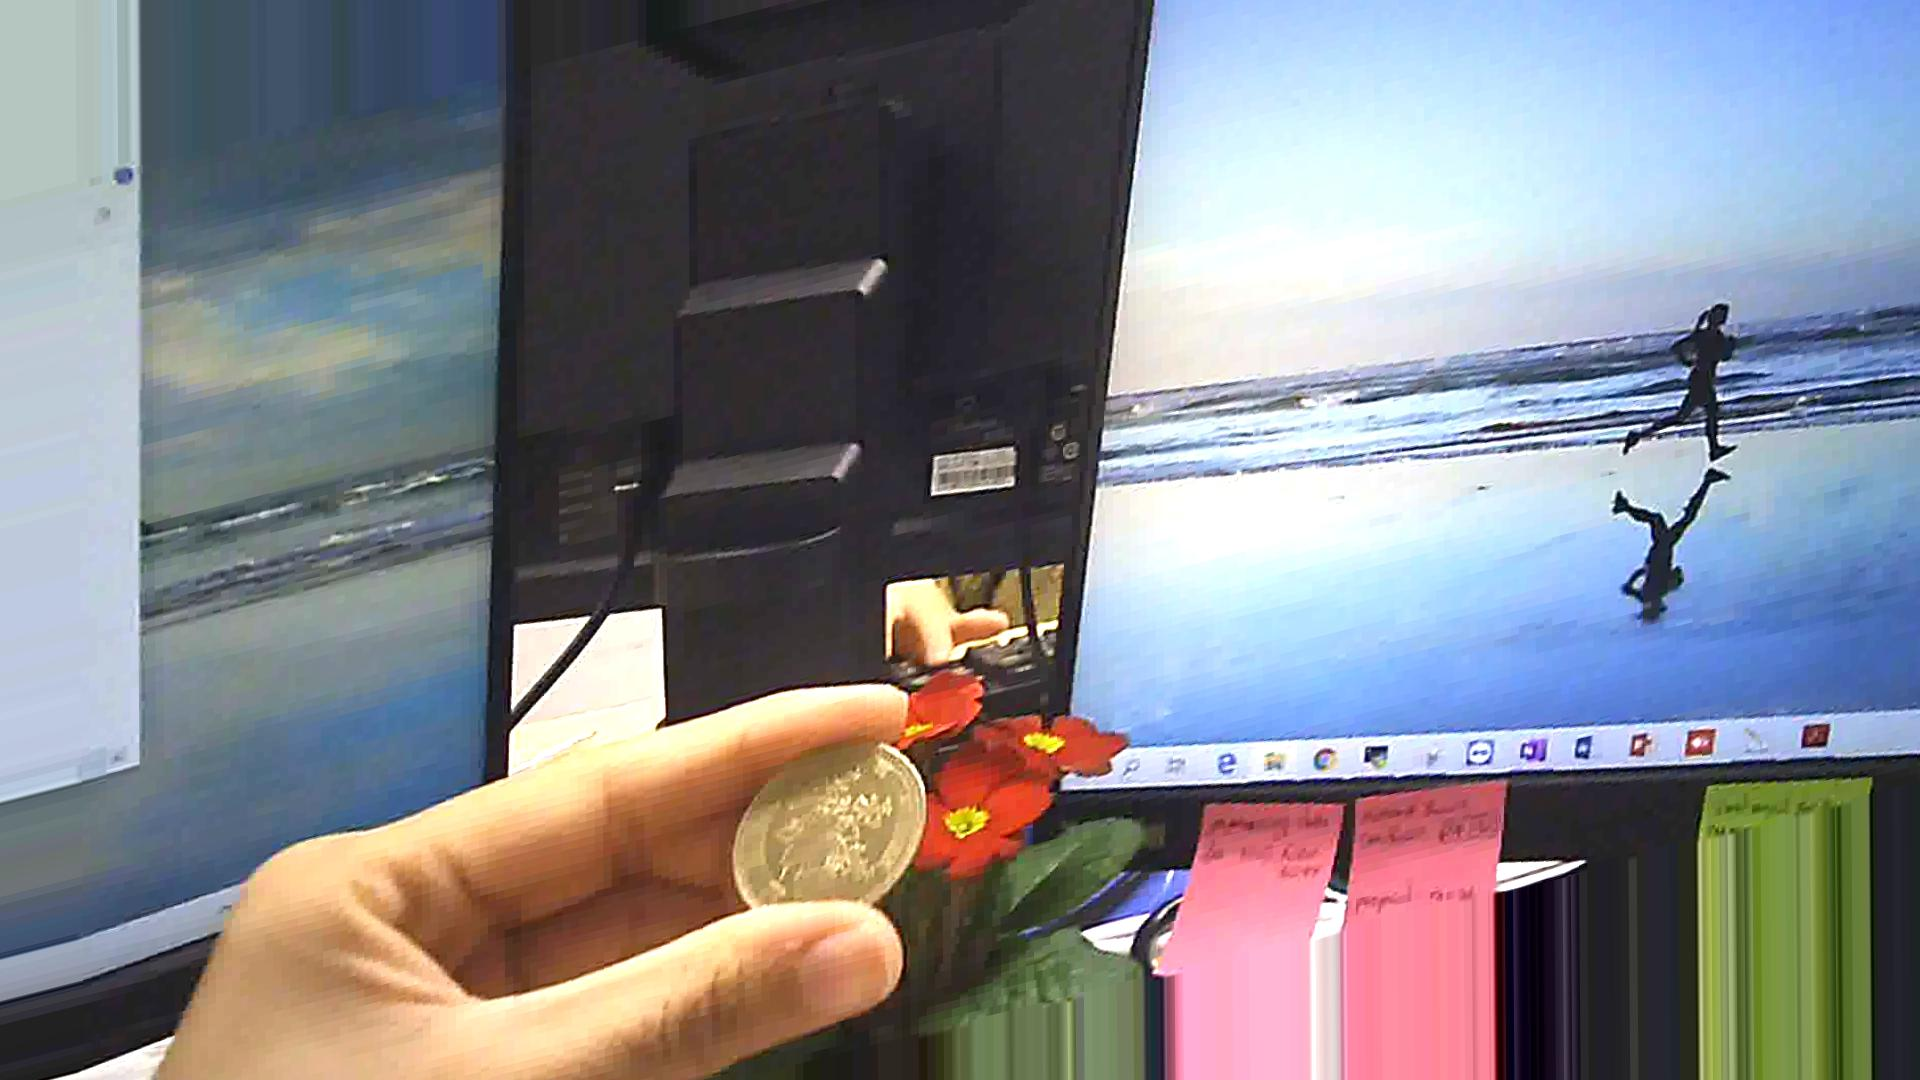500 Yen: (733, 738, 931, 938)
